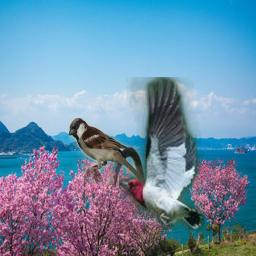Sparrow: (69, 118, 145, 185)
Woodpecker: (119, 77, 205, 230)
